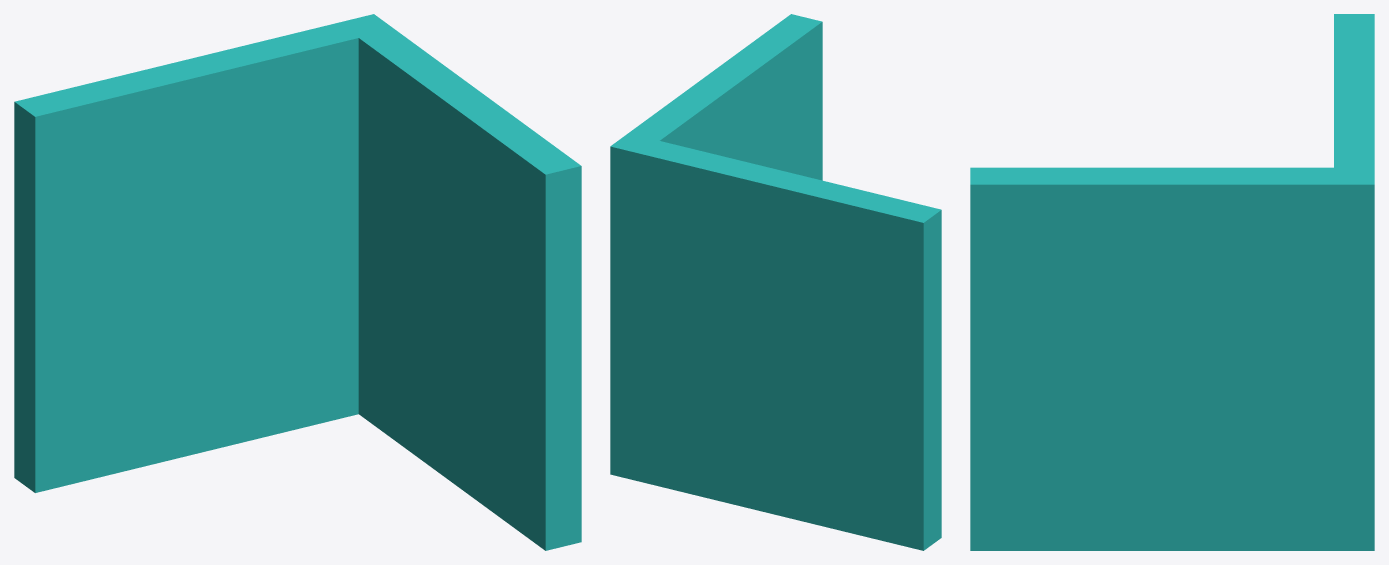
The model's file is Rooms_Stairs_WallExtra_ConerIn_A.FBX.
3 renders of one model, left to right at view 1: azimuth 30°, elevation 25°; view 2: azimuth 150°, elevation 25°; view 3: azimuth 270°, elevation 25°, orthographic. The views are drawn at different scales.
Visible parts, largest first — view 1: Rooms_Stairs_WallExtra_ConerIn_A; view 2: Rooms_Stairs_WallExtra_ConerIn_A; view 3: Rooms_Stairs_WallExtra_ConerIn_A.
Boxes of the visible parts, left/top/right/bottom form: Rooms_Stairs_WallExtra_ConerIn_A: left=14, top=14, right=581, bottom=550; Rooms_Stairs_WallExtra_ConerIn_A: left=610, top=14, right=941, bottom=550; Rooms_Stairs_WallExtra_ConerIn_A: left=970, top=14, right=1374, bottom=550.
Bounding box in the file's own units: 200 × 200 × 200.
